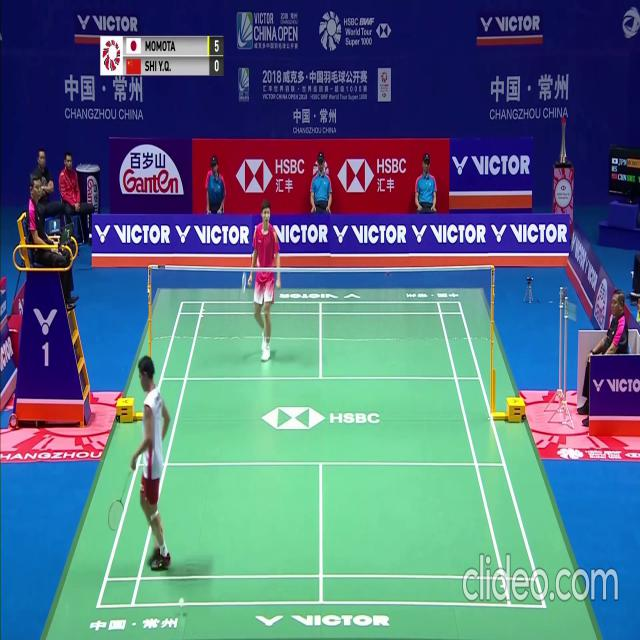Shuttlecock: (179, 600, 184, 607)
